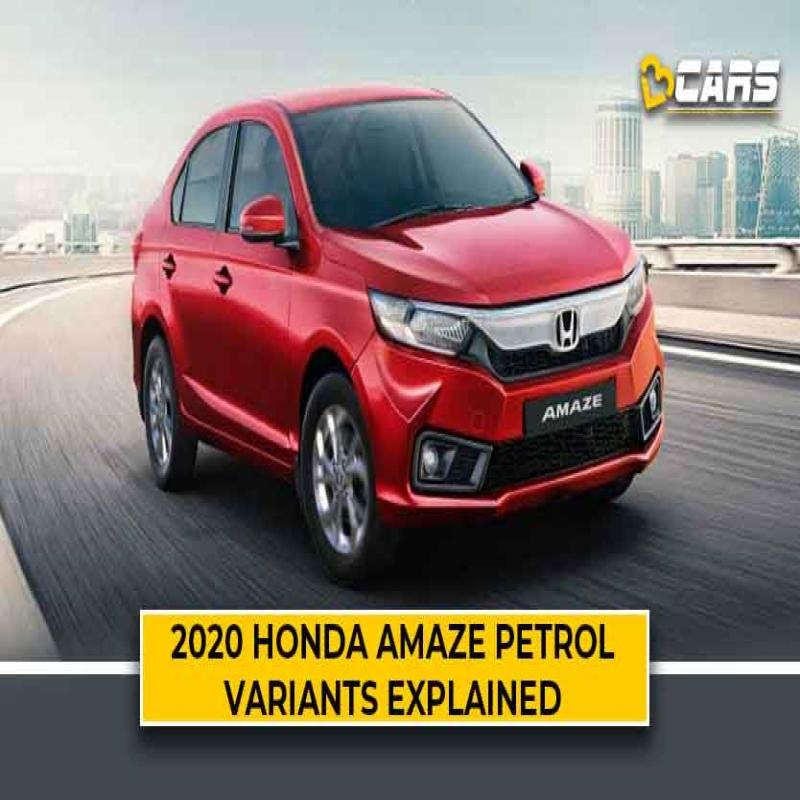car: (83, 97, 665, 545)
